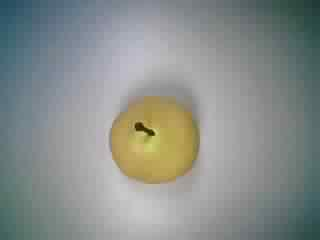pear: (93, 83, 211, 191)
